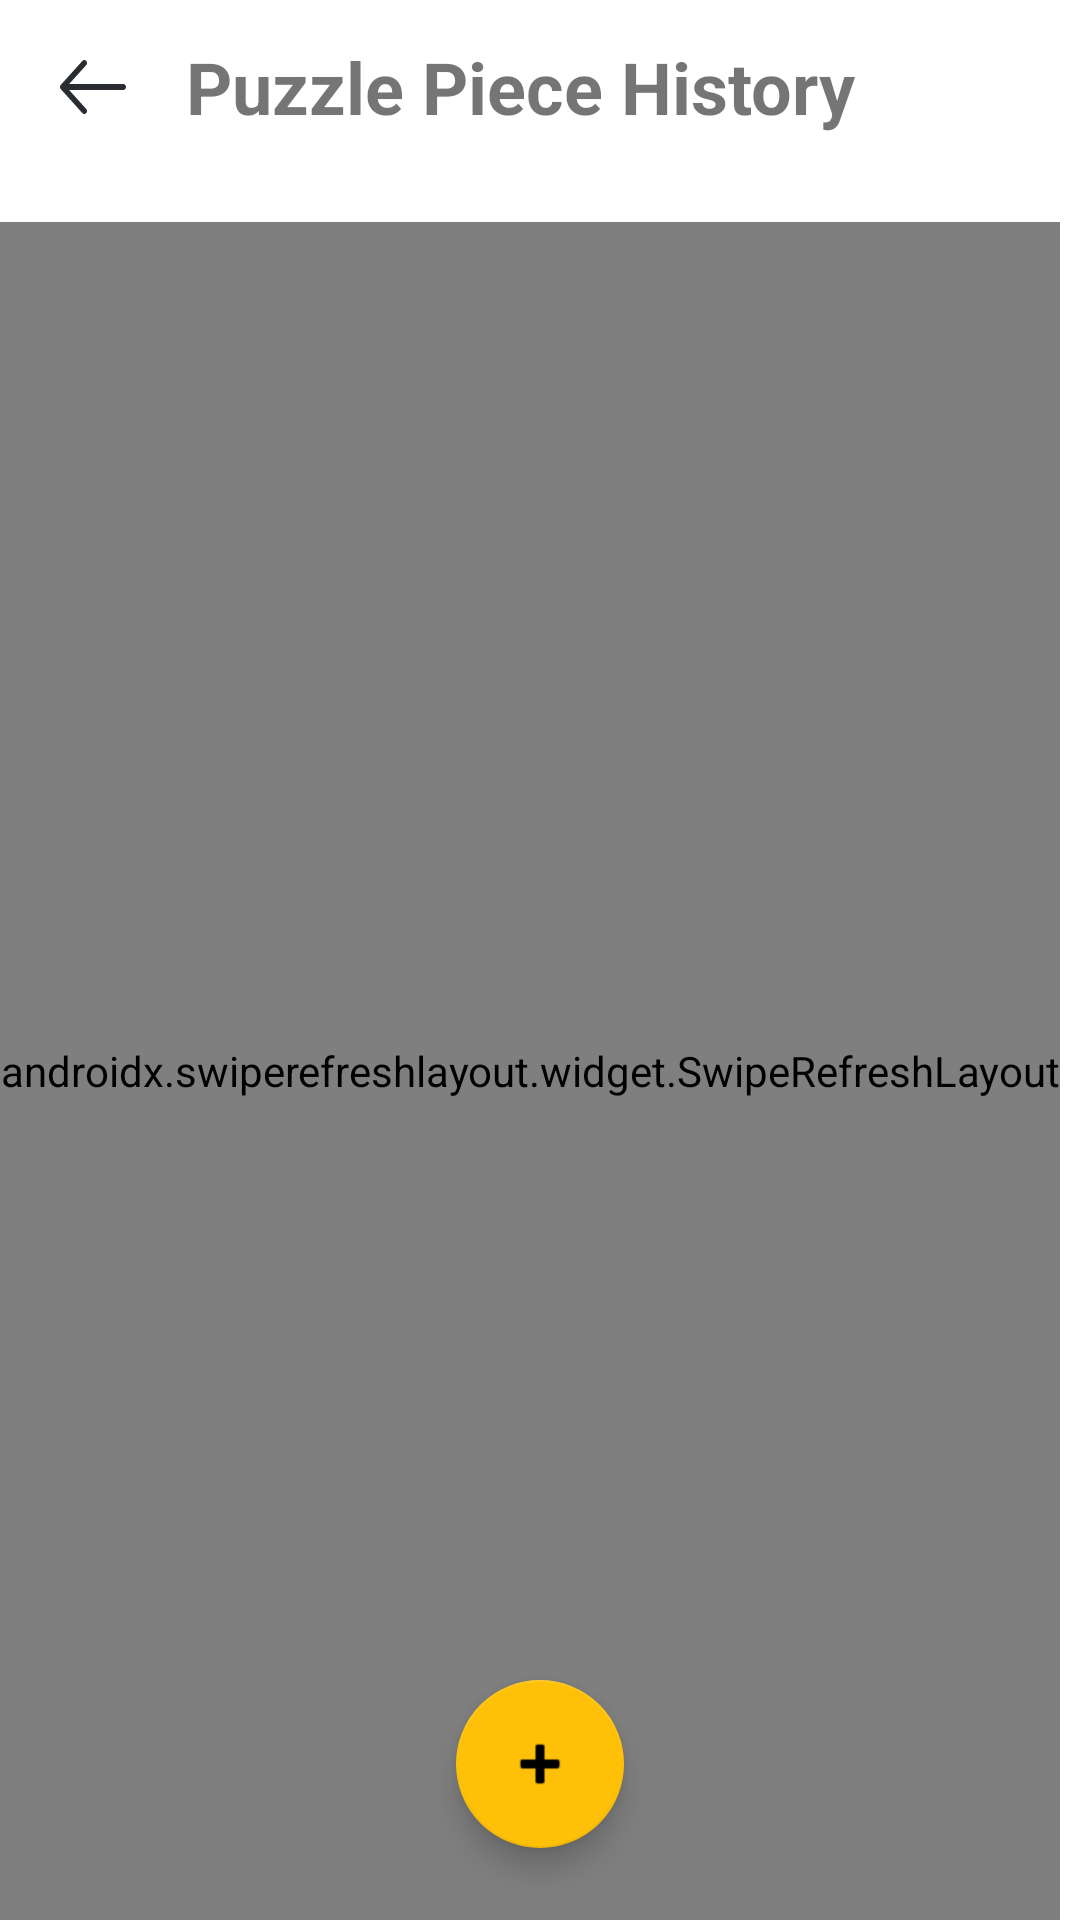

Icons on this 1080 x 1920 Android screen, each with the point to tap as point (x, y):
add: point (540, 1764)
back arrow: point (93, 87)
